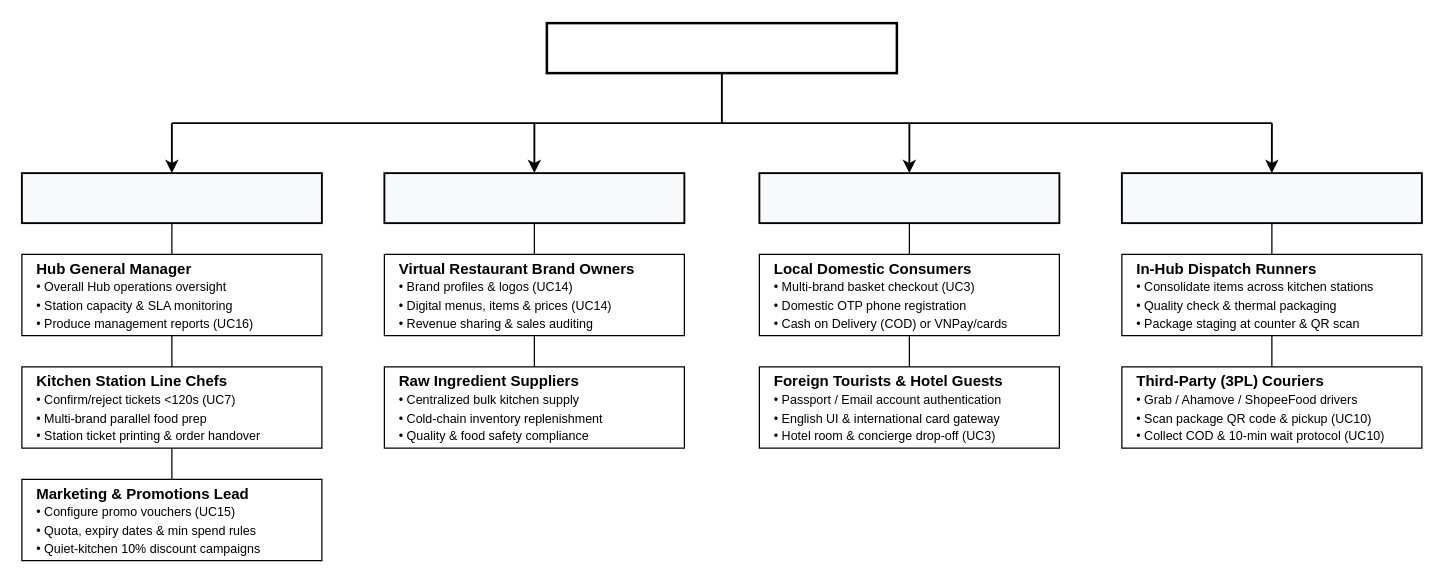
Some shapes in this 1445 by 583 pixel diagram are drawn without their labels. Here are the shapes that lost their labels. From the top down, the box of each, then its label:
(545, 21, 898, 74): SaigonBite Platform Ecosystem
(20, 172, 322, 224): 1. Internal Hub Operations
(383, 172, 685, 224): 2. Merchant & Brand Partners
(758, 172, 1060, 224): 3. Customer Segments
(1120, 172, 1422, 224): 4. Delivery & Logistics Providers
